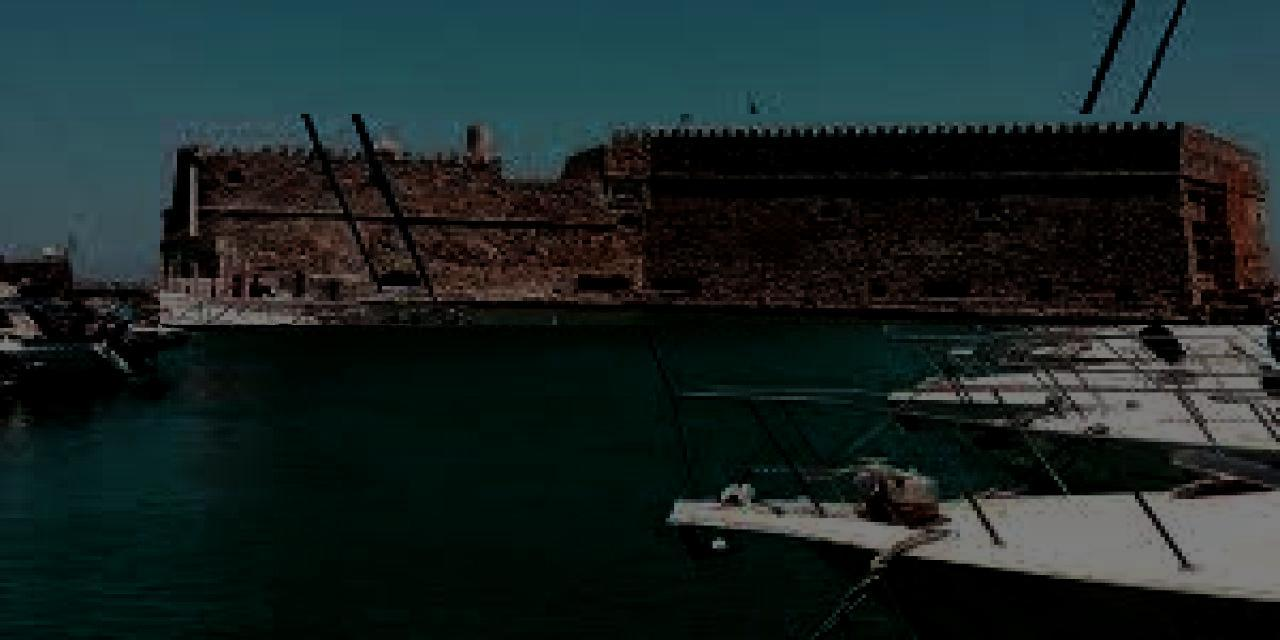Kules: (161, 115, 1280, 326)
